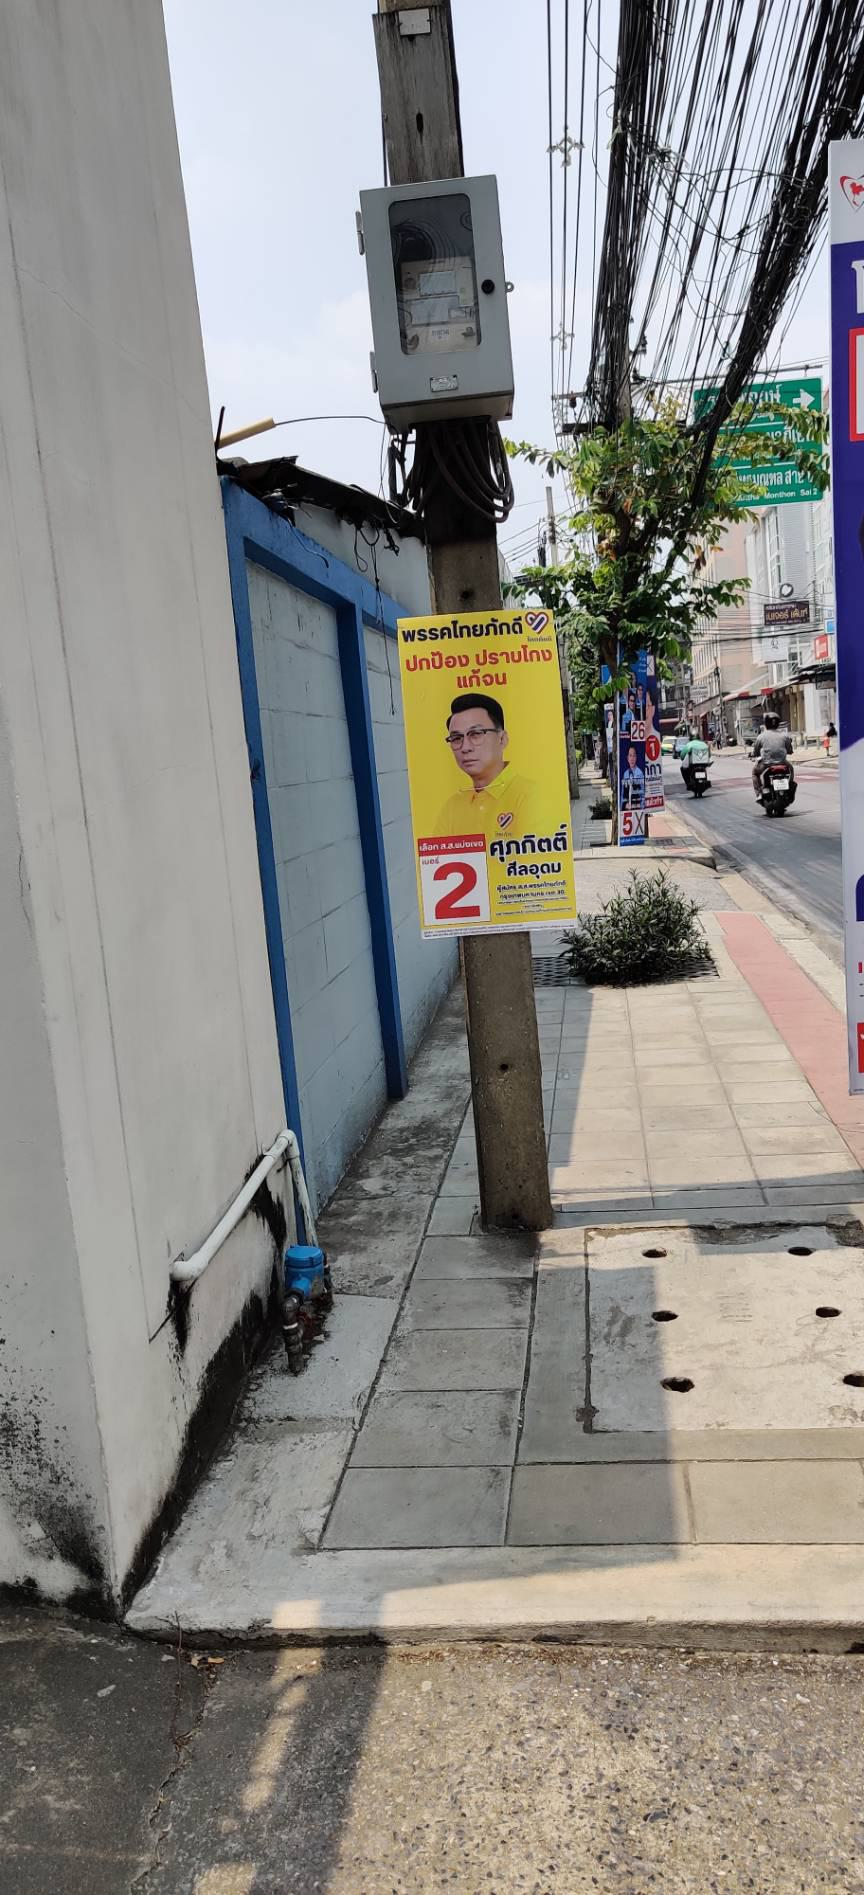Banner: (382, 612, 588, 934)
